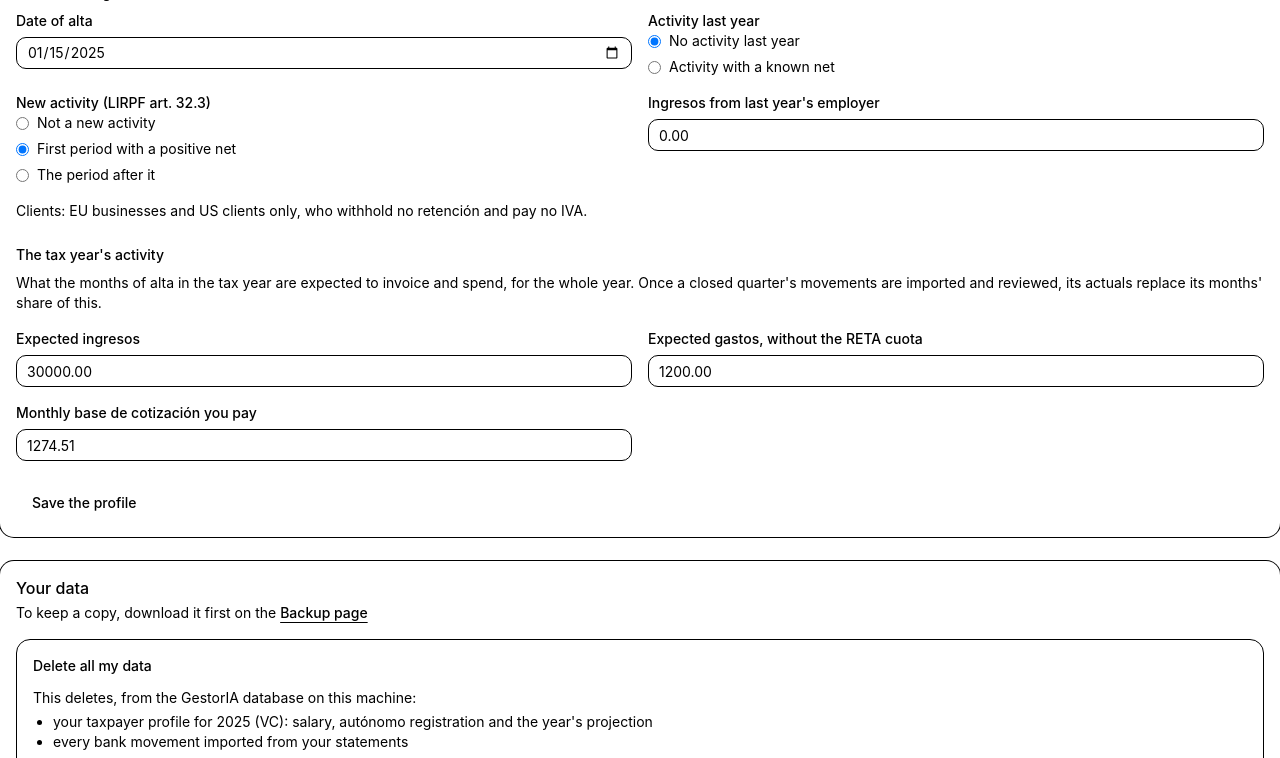
Scenario: SettingsPage › fills the form from the stored profile and replaces it on save
(page scrolled)
expect the button "Save the profile" is shown: met, box x1=16 y1=485 x2=153 y2=521
expect the date field labelled "Date of alta" holds "2025-01-15": met, box x1=16 y1=37 x2=632 y2=69
Step 1. Replace the text in the field labelled "Expected ingresos" with "32000.00" → (324, 371), box x1=16 y1=355 x2=632 y2=387
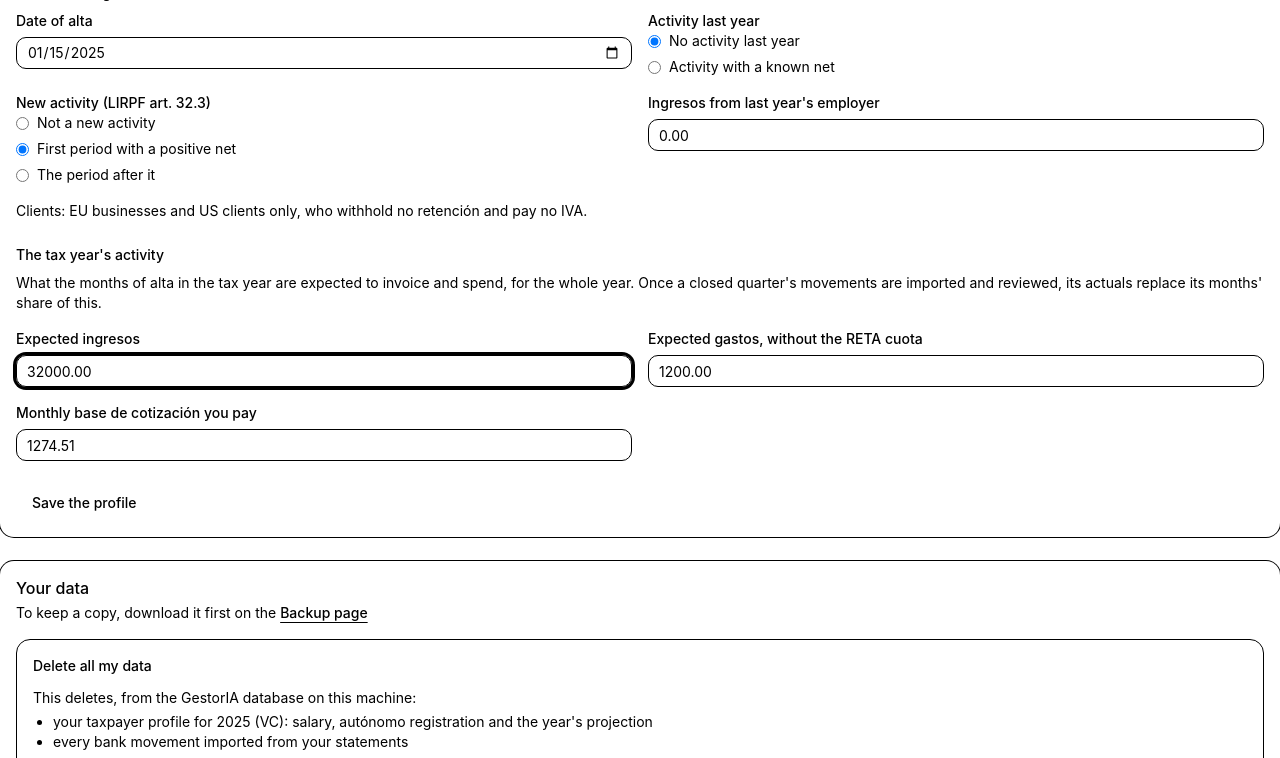
Step 2. Click the radio button labelled "Activity with a known net" → (654, 67), box x1=648 y1=60 x2=661 y2=74
(page scrolled)
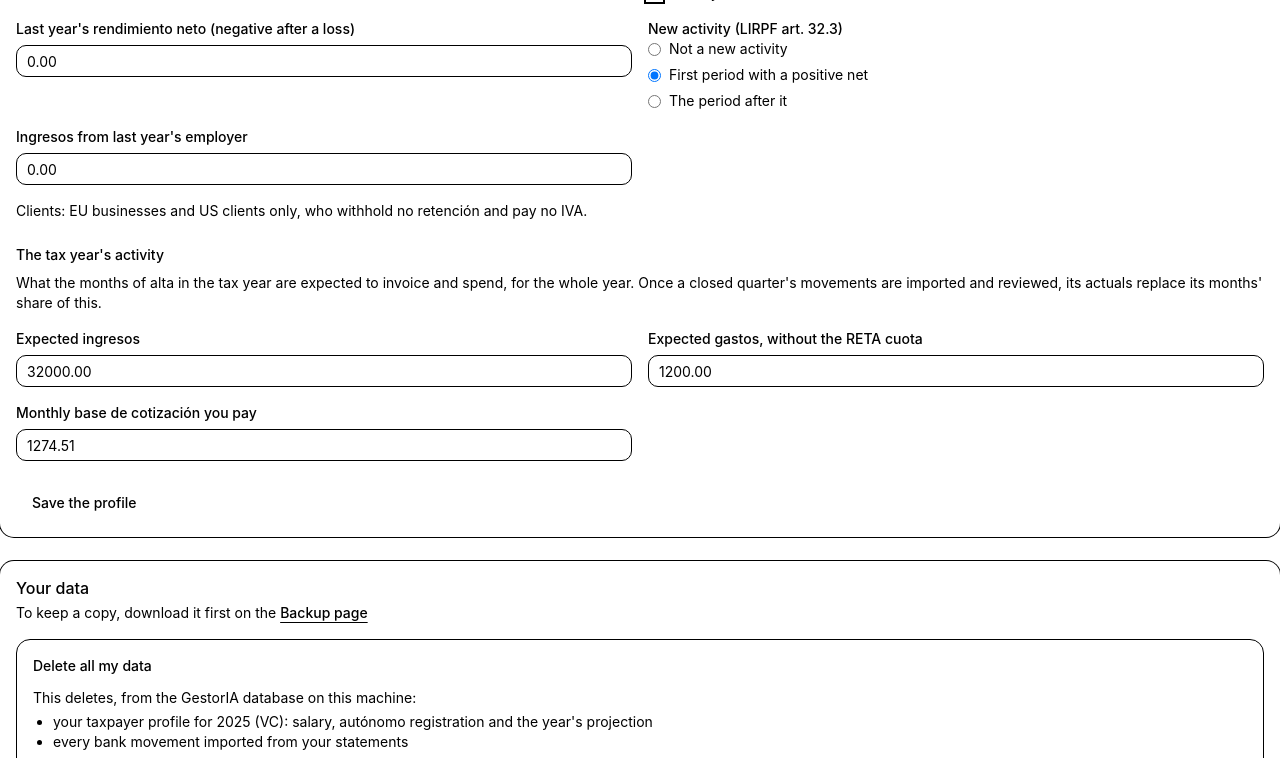
Step 3. Type "-500.25" into the field labelled "Last year's rendimiento neto (negative after a loss)" → (324, 61), box x1=16 y1=45 x2=632 y2=77
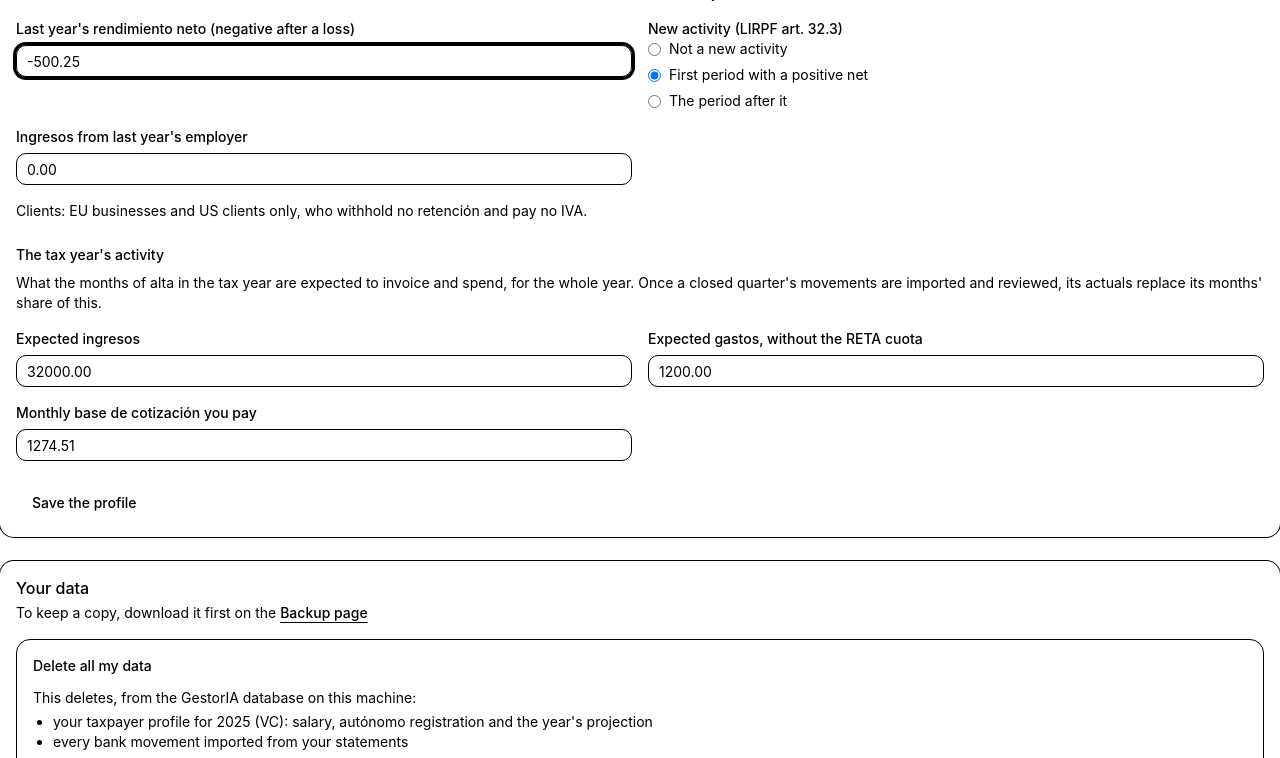
Step 4. Click the button "Save the profile" → (84, 503), box x1=16 y1=485 x2=153 y2=521
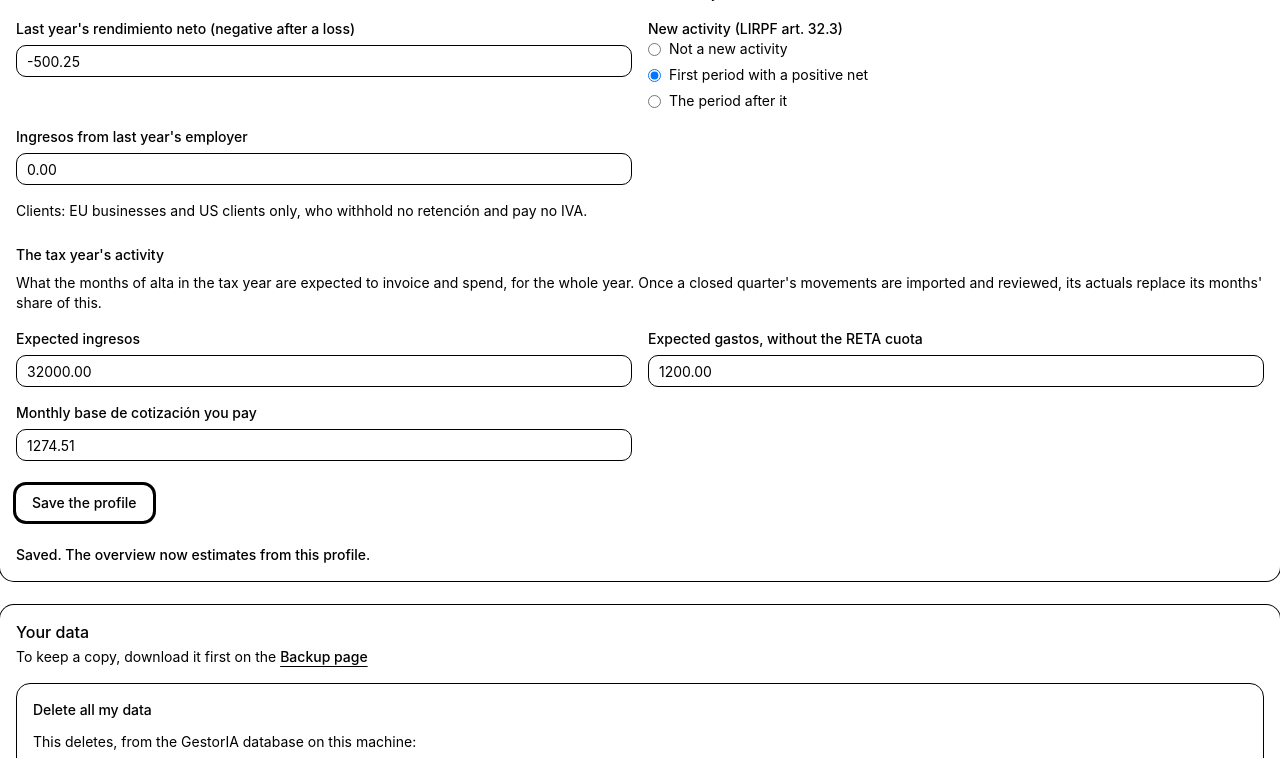
expect the text "Saved. The overview now estimates from this profile." is shown: met, box x1=16 y1=546 x2=370 y2=563
